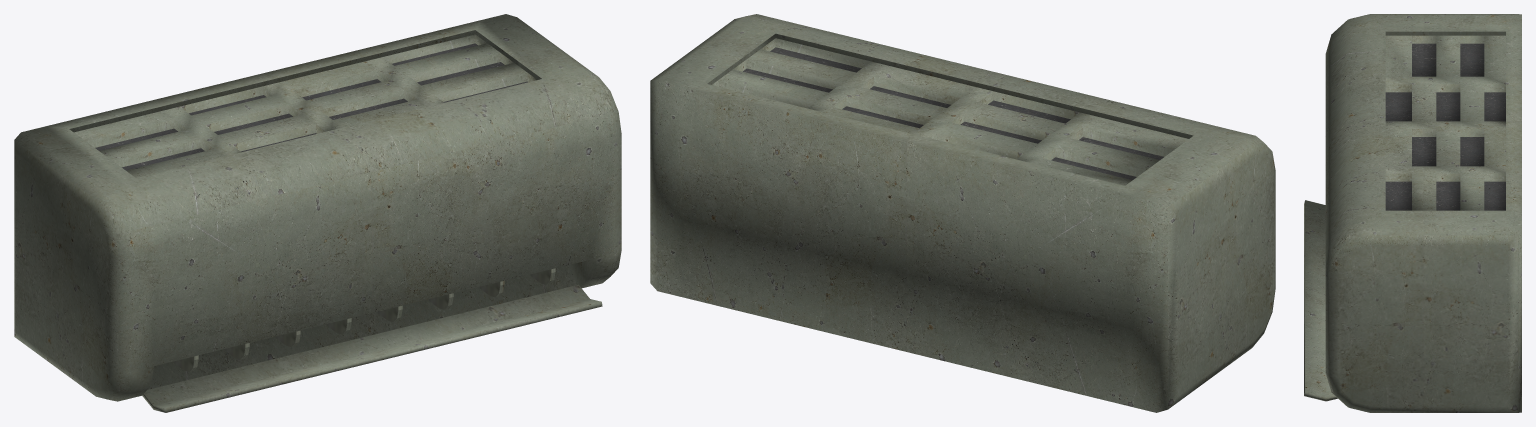
Rendered from air-conditioner-uv-fixed.obj.
The picture shows the model from 3 angles, left to right: view 1: azimuth 30°, elevation 25°; view 2: azimuth 150°, elevation 25°; view 3: azimuth 270°, elevation 25°; orthographic projection. The views are drawn at different scales.
Visible parts, largest first — view 1: AC_part_0, AC_part_3, AC_part_1, AC_part_2; view 2: AC_part_0, AC_part_3; view 3: AC_part_0, AC_part_3, AC_part_1.
Boxes of the visible parts, left/top/right/bottom form: AC_part_0: left=14, top=14, right=621, bottom=401; AC_part_3: left=74, top=34, right=536, bottom=177; AC_part_1: left=142, top=284, right=602, bottom=412; AC_part_2: left=173, top=268, right=555, bottom=371; AC_part_0: left=650, top=14, right=1275, bottom=412; AC_part_3: left=712, top=38, right=1188, bottom=185; AC_part_0: left=1325, top=14, right=1521, bottom=412; AC_part_3: left=1385, top=35, right=1505, bottom=210; AC_part_1: left=1304, top=200, right=1337, bottom=401.
Bounding box in the file's own units: 0.4806 × 0.1841 × 0.1968.
2 materials, 2 textured.
